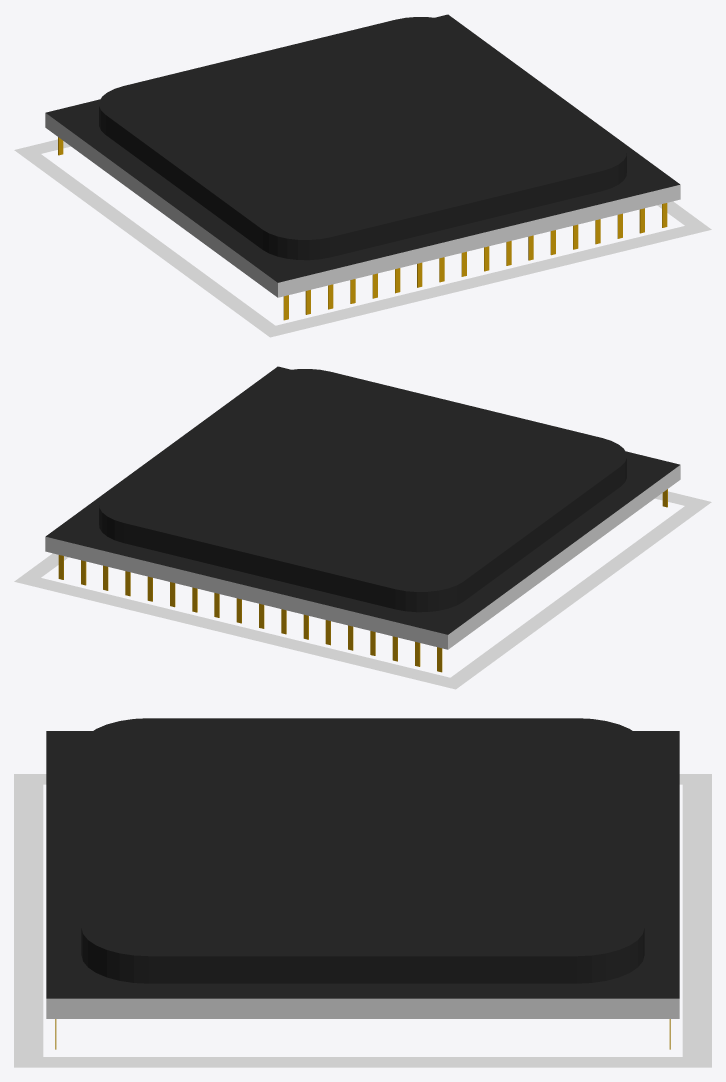
The model's file is cpu.fbx.
The picture shows the model from 3 angles, top to bottom: view 1: azimuth 30°, elevation 25°; view 2: azimuth 150°, elevation 25°; view 3: azimuth 270°, elevation 25°; orthographic projection. The views are drawn at different scales.
Parts seen in each view (by area): view 1: cpu; view 2: cpu; view 3: cpu.
Boxes of the visible parts, x1,y1,x2,y2 form: cpu: (14, 14, 711, 337); cpu: (14, 366, 711, 689); cpu: (14, 718, 711, 1067).
Bounding box in the file's own units: 98.74 × 13.35 × 99.15.
